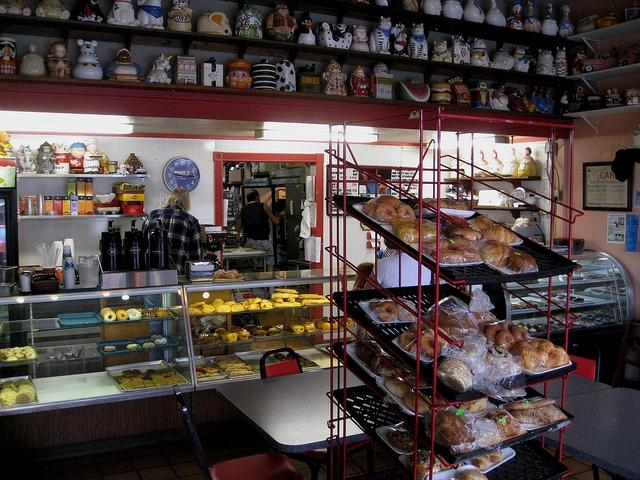watermelon: (396, 82, 431, 102)
